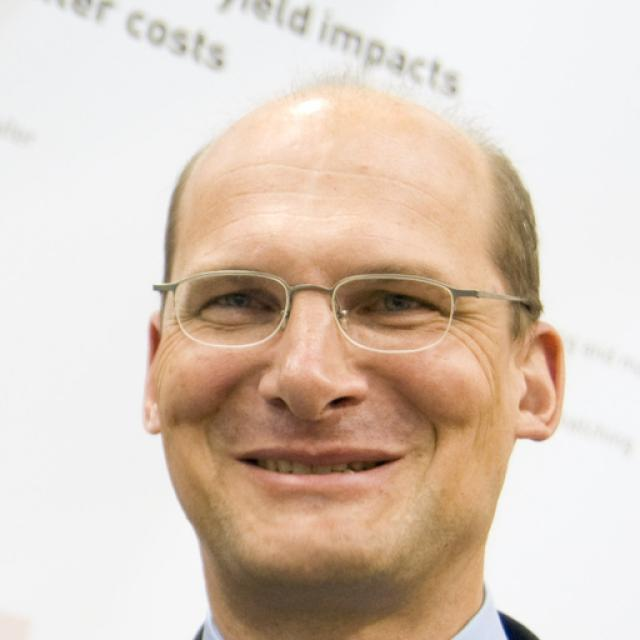happy: (157, 145, 514, 580)
